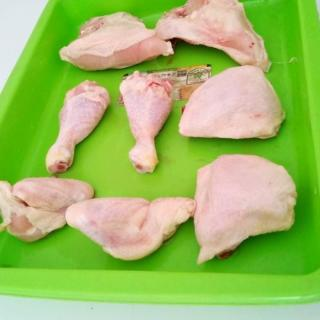Ayam: (195, 153, 300, 267), (153, 1, 278, 79), (177, 65, 293, 145), (66, 197, 198, 263), (58, 11, 178, 75), (1, 177, 97, 245), (46, 80, 114, 176), (119, 71, 176, 177)
